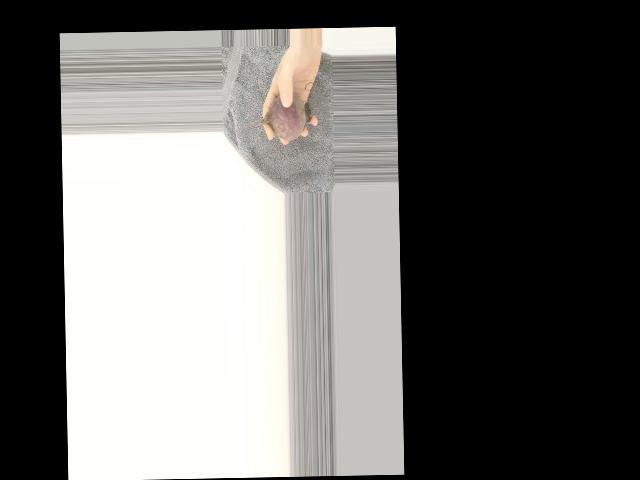beet: (233, 92, 311, 142)
